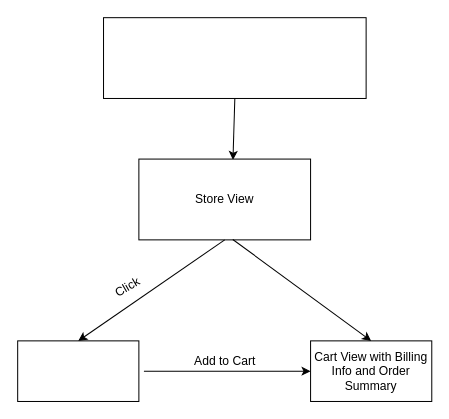
The diagram is 449 pixels wide and 419 high, and some of its shapes have lost their labels. Here are the shapes that lost their labels. From the top down, the centre of each, then its label:
At (234,57): "SHOPFIRE".
At (78,370): "Product's View (Modal)".
